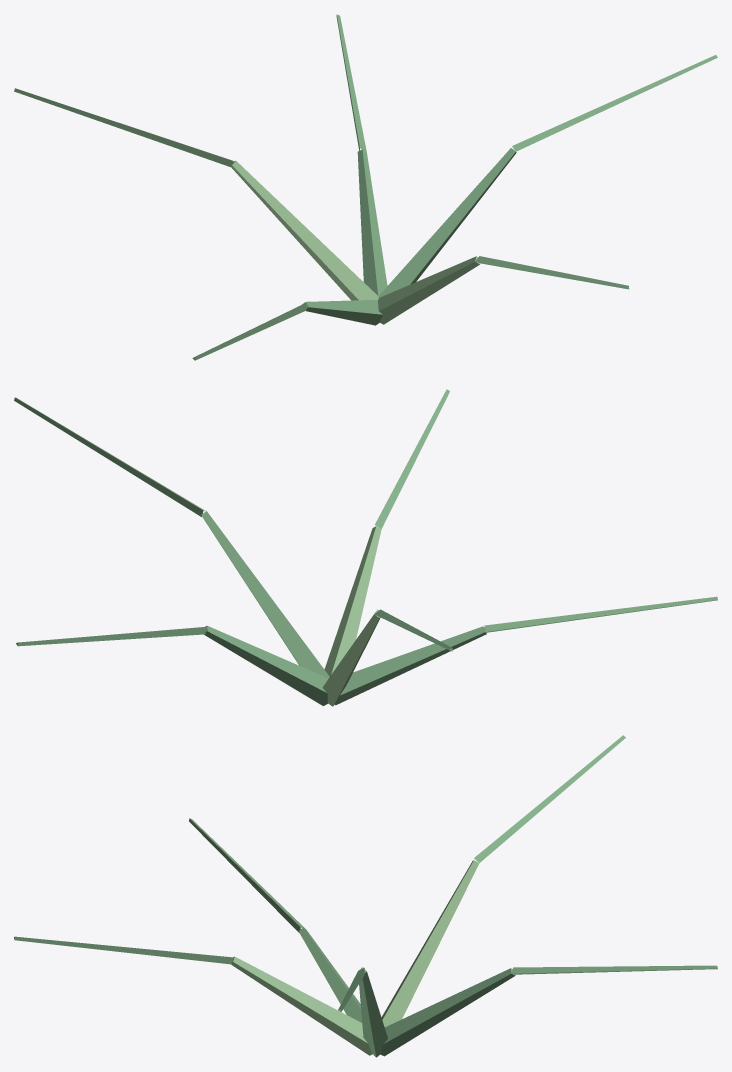
File: fern_v44.glb
3 views of the same model, one above another, from view 1: azimuth 30°, elevation 25°; view 2: azimuth 150°, elevation 25°; view 3: azimuth 270°, elevation 25° (orthographic). The views are drawn at different scales.
Visible parts, largest first — view 1: lod0; view 2: lod0; view 3: lod0.
Part boxes in pixels (x1,y1,x2,y2): lod0: (14,14,717,360); lod0: (14,389,717,706); lod0: (14,735,717,1057).
Size of what is drawn, in the model's own units: 1.83 by 0.5939 by 1.86.
